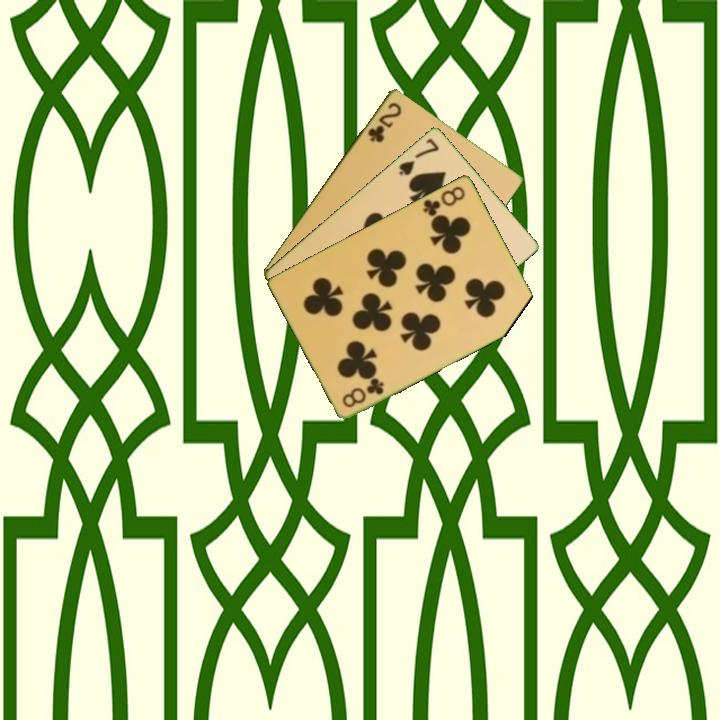2c: (364, 98, 404, 145)
7s: (395, 134, 442, 178)
8c: (419, 182, 468, 219), (339, 374, 387, 410)
